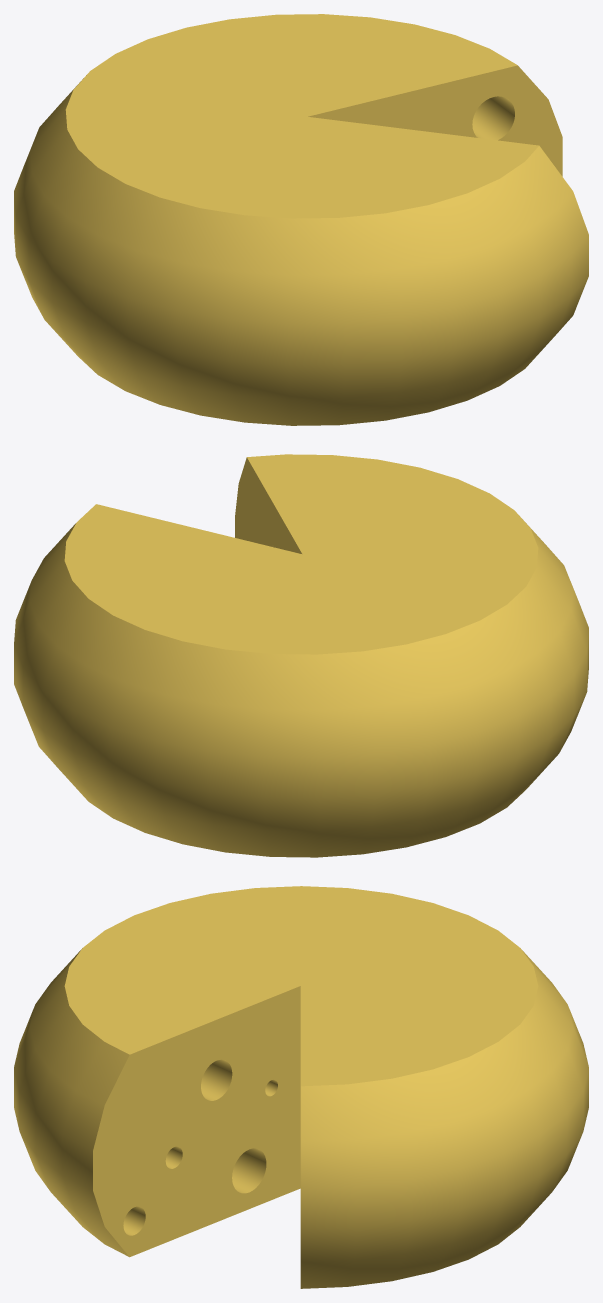
The model's file is Keju bulat.fbx.
3 renders of one model, top to bottom at view 1: azimuth 30°, elevation 25°; view 2: azimuth 150°, elevation 25°; view 3: azimuth 270°, elevation 25°, orthographic. The views are drawn at different scales.
Parts seen in each view (by area): view 1: Cylinder; view 2: Cylinder; view 3: Cylinder.
Part boxes in pixels (x1=…): Cylinder: x1=14, y1=14, x2=588, y2=425; Cylinder: x1=14, y1=454, x2=588, y2=857; Cylinder: x1=14, y1=886, x2=588, y2=1288.
Bounding box in the file's own units: 515 × 200 × 515.
Materials: 1 (1 with a texture image).
